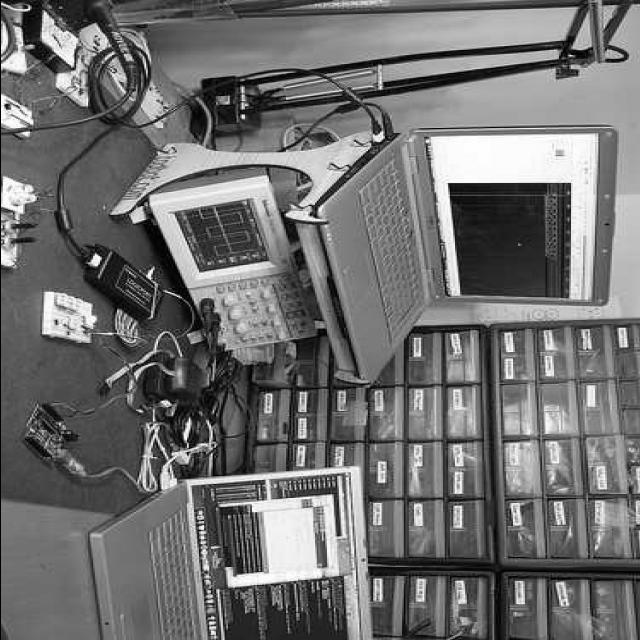laptop: (312, 121, 616, 382), (92, 472, 363, 640)
